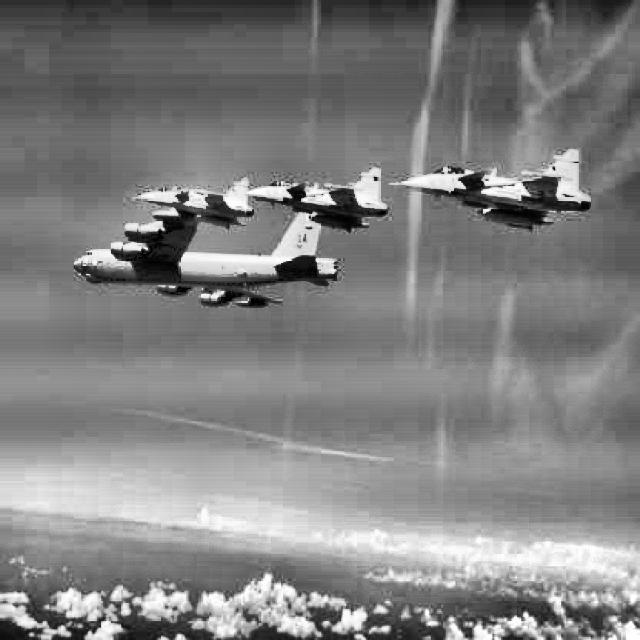B52: (73, 208, 338, 308)
JAS39: (388, 149, 590, 233), (237, 168, 388, 234), (132, 177, 253, 231)
